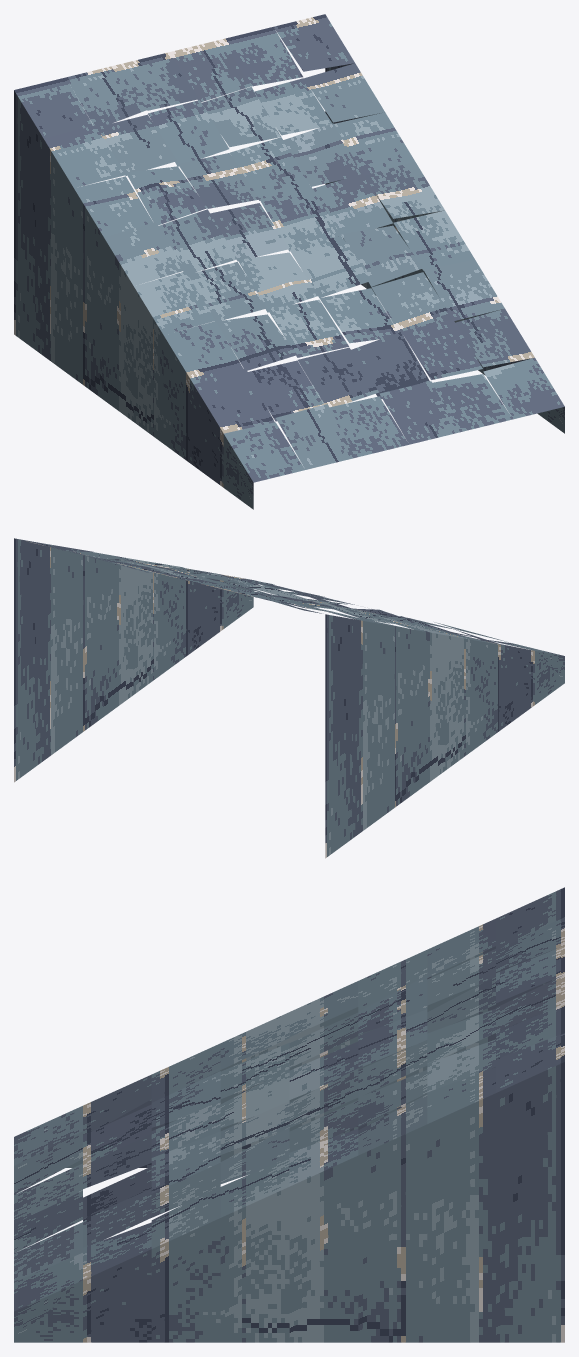
The model's file is TER-07_Escarpe_rampa.gltf.
3 views of the same model, one above another, from view 1: azimuth 30°, elevation 25°; view 2: azimuth 150°, elevation 25°; view 3: azimuth 270°, elevation 25° (orthographic). The views are drawn at different scales.
Visible parts, largest first — view 1: TER-07_Escarpe_rampa-col; view 2: TER-07_Escarpe_rampa-col; view 3: TER-07_Escarpe_rampa-col.
Part boxes in pixels (x1=…): TER-07_Escarpe_rampa-col: x1=14, y1=14, x2=564, y2=509; TER-07_Escarpe_rampa-col: x1=14, y1=538, x2=564, y2=858; TER-07_Escarpe_rampa-col: x1=14, y1=887, x2=564, y2=1342.
Bounding box in the file's own units: 3 × 2.25 × 4.
1 material, 1 textured.
